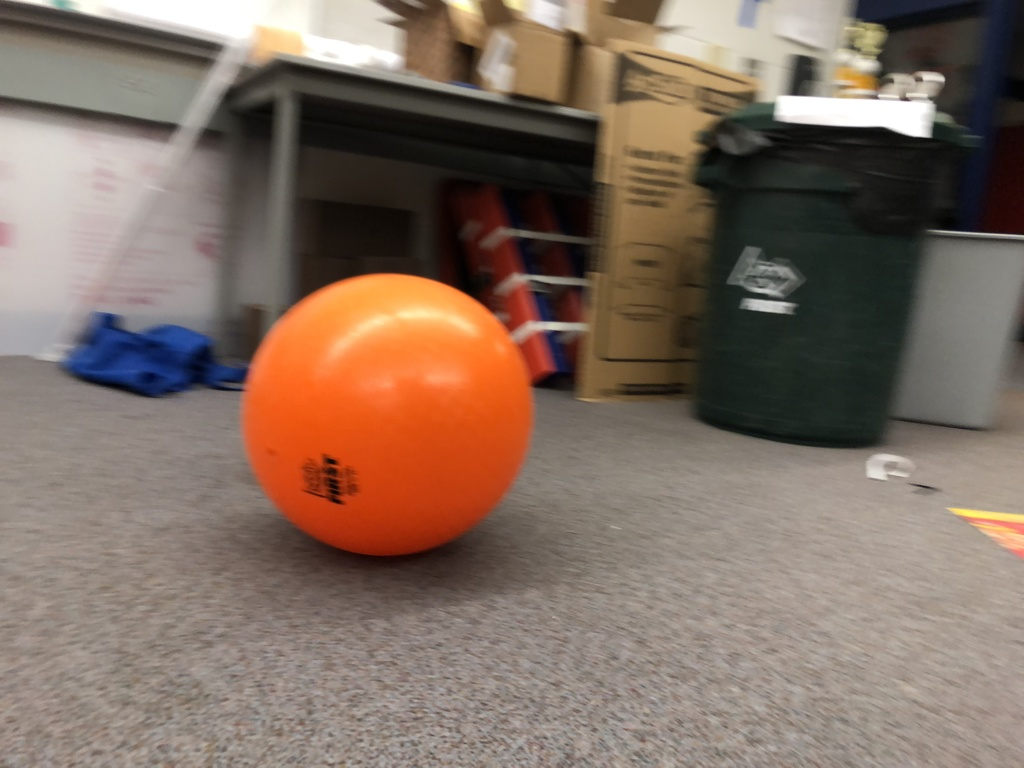cargo: (230, 254, 546, 587)
